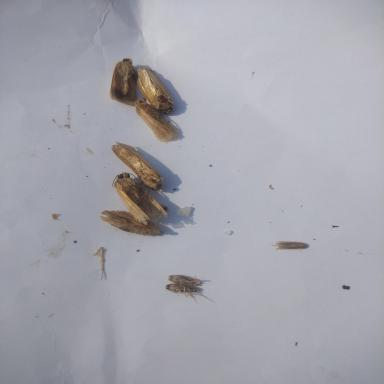abw: (110, 170, 172, 224), (109, 140, 168, 192), (134, 63, 179, 115), (132, 98, 185, 142), (98, 206, 168, 237), (108, 56, 139, 103)
pbw: (164, 282, 206, 297), (166, 273, 206, 288), (272, 239, 310, 251)
